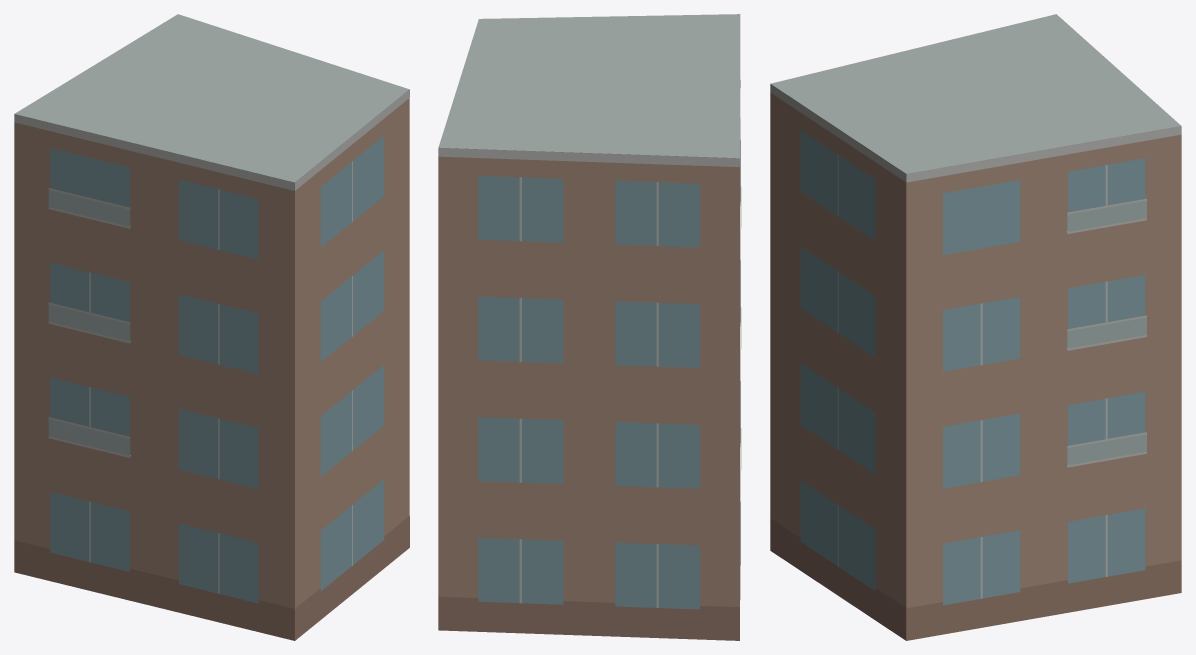
Rendered from survey-upis-32723566.glb.
3 renders of one model, left to right at view 1: azimuth 30°, elevation 25°; view 2: azimuth 150°, elevation 25°; view 3: azimuth 270°, elevation 25°, orthographic. The views are drawn at different scales.
Parts seen in each view (by area): view 1: survey-upis-32723566.tmp; view 2: survey-upis-32723566.tmp; view 3: survey-upis-32723566.tmp.
Part boxes in pixels (x1,y1,x2,y2): survey-upis-32723566.tmp: (14, 14, 409, 640); survey-upis-32723566.tmp: (438, 14, 741, 640); survey-upis-32723566.tmp: (770, 14, 1181, 640).
Size of the model in its own units: 9.71 by 13.2 by 10.54.
